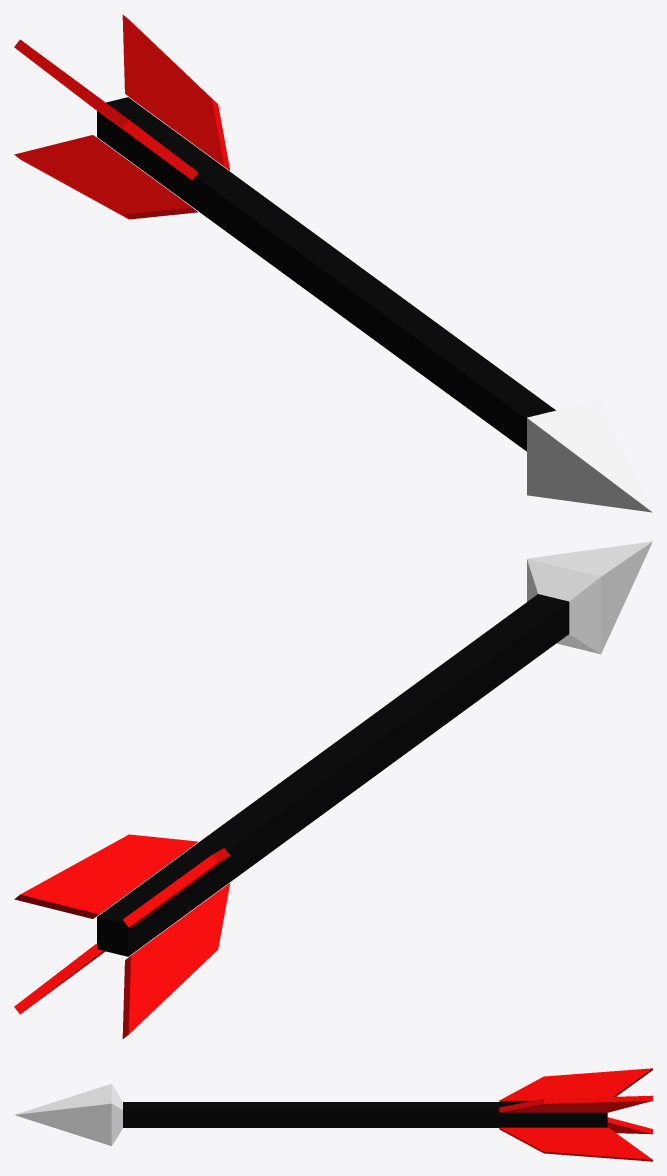
File: child (merge).fbx
3 renders of one model, top to bottom at view 1: azimuth 30°, elevation 25°; view 2: azimuth 150°, elevation 25°; view 3: azimuth 270°, elevation 25°, orthographic. The views are drawn at different scales.
Visible parts, largest first — view 1: child; view 2: child; view 3: child.
Part boxes in pixels (bbox=[...]): child: bbox=[14, 15, 652, 512]; child: bbox=[14, 541, 652, 1038]; child: bbox=[15, 1068, 652, 1161].
Bounding box in the file's own units: 0.1477 × 0.1477 × 1.3.
